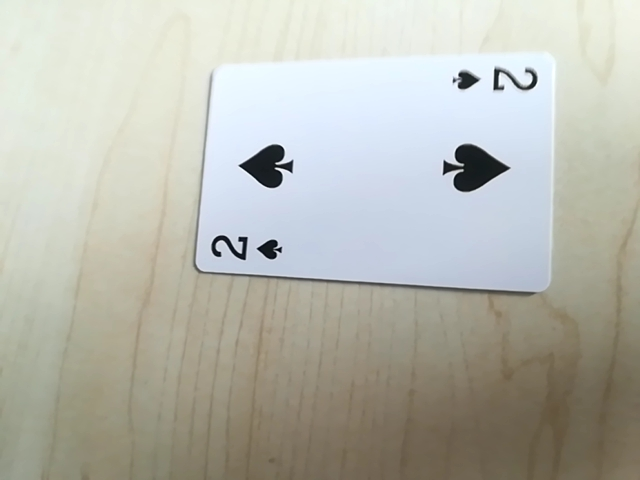ht 2: (448, 56, 546, 104), (203, 228, 291, 268)
